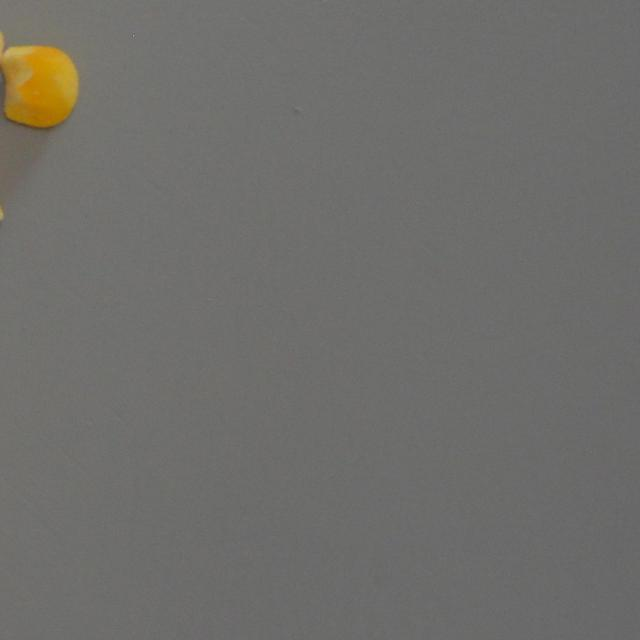no_canjicado: (1, 43, 80, 128)
